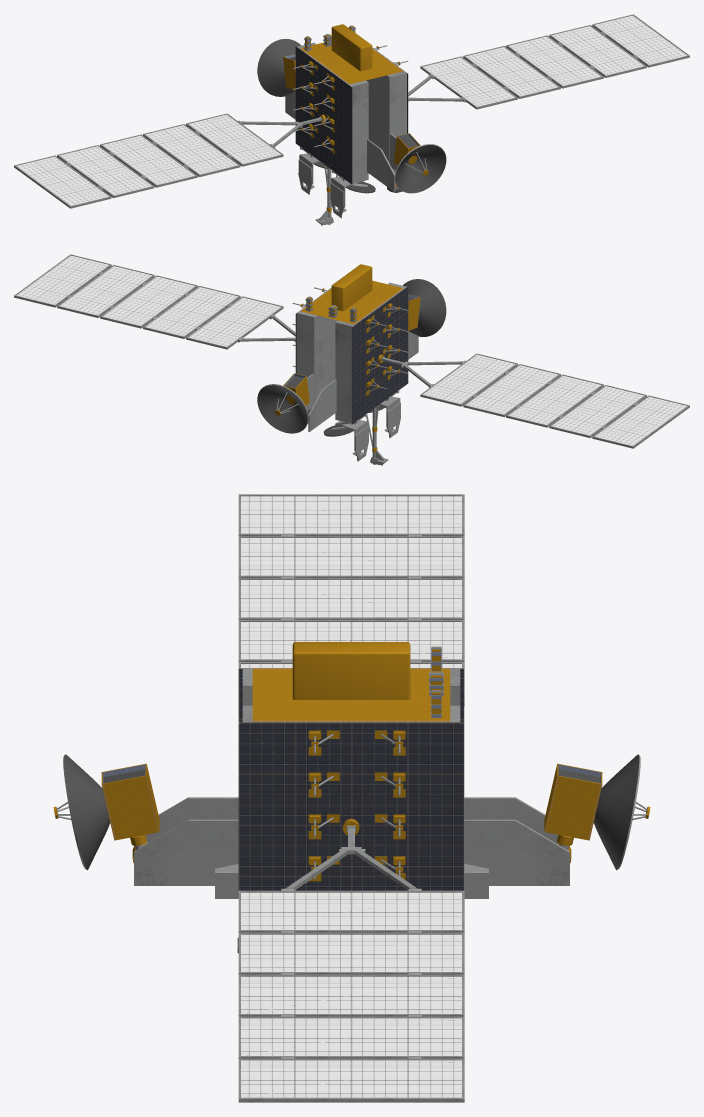
File: AEHF_Satellite_v03_ai_adjusted_panels_roughness_jpegs.glb
3 renders of one model, top to bottom at view 1: azimuth 30°, elevation 25°; view 2: azimuth 150°, elevation 25°; view 3: azimuth 270°, elevation 25°, orthographic. The views are drawn at different scales.
Visible parts, largest first — view 1: AEHF_Satellite; view 2: AEHF_Satellite; view 3: AEHF_Satellite.
Part boxes in pixels (x1,y1,x2,y2): AEHF_Satellite: (14, 14, 689, 225); AEHF_Satellite: (14, 254, 689, 465); AEHF_Satellite: (53, 494, 650, 1102).
Bounding box in the file's own units: 0.1378 × 0.0389 × 0.0575.
Materials: 6 (5 with a texture image).
